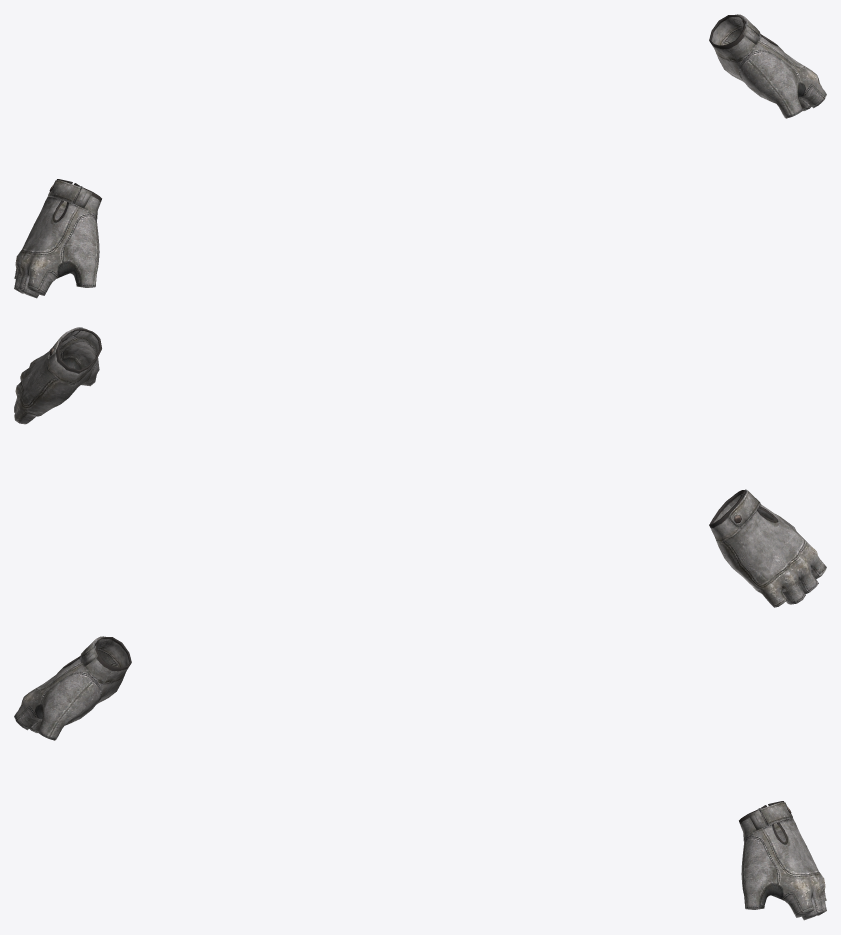
Rendered from SurvivorMale_Hands_Gloves_Fingerless_LOD0.glb.
3 renders of one model, top to bottom at view 1: azimuth 30°, elevation 25°; view 2: azimuth 150°, elevation 25°; view 3: azimuth 330°, elevation 25°, orthographic.
Parts seen in each view (by area): view 1: Hoodie; view 2: Hoodie; view 3: Hoodie.
Boxes of the visible parts, <box> form: Hoodie: <box>14,14,826,298</box>; Hoodie: <box>14,327,826,607</box>; Hoodie: <box>14,636,826,920</box>.
Size of the model in its own units: 1.28 by 0.1523 by 0.1551.
1 material, 1 textured.
